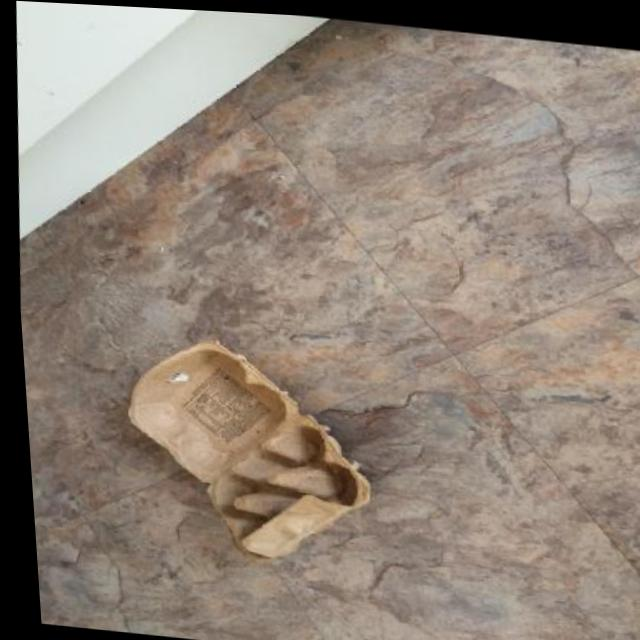cardboard: (114, 330, 384, 580)
